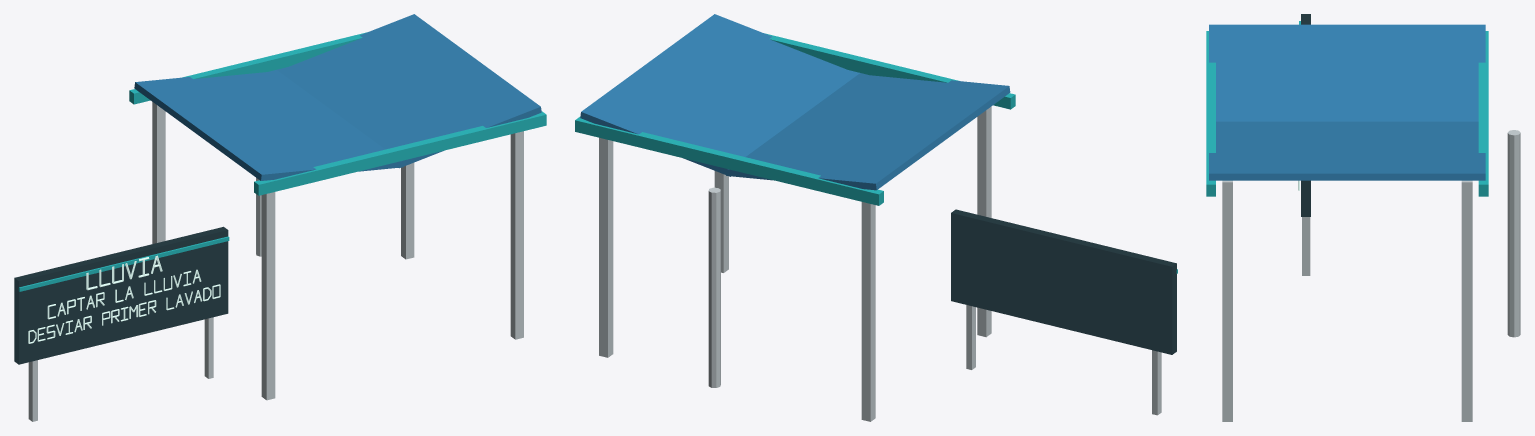
The model's file is AQUA-004.glb.
3 views of the same model, side by side, from view 1: azimuth 30°, elevation 25°; view 2: azimuth 150°, elevation 25°; view 3: azimuth 270°, elevation 25° (orthographic). The views are drawn at different scales.
Visible parts, largest first — view 1: AQUA-004; view 2: AQUA-004; view 3: AQUA-004.
Boxes of the visible parts, bbox=[...] form: AQUA-004: bbox=[14, 14, 546, 421]; AQUA-004: bbox=[575, 14, 1177, 421]; AQUA-004: bbox=[1206, 14, 1520, 421].
Size of the model in its own units: 7.4 by 3.4 by 3.81.
